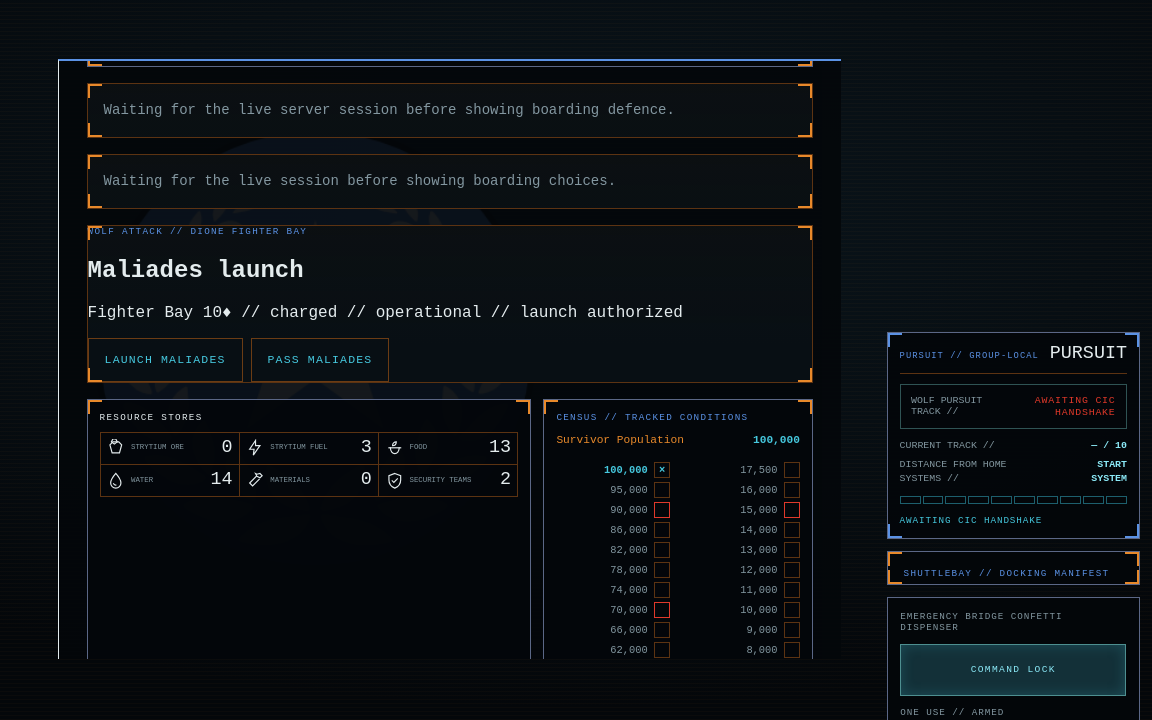
Test: shows the Dione Engineer live Maliades gate and launches against its exact attack revision
(page scrolled)
What coordinates should you click on to do the following:
click the button "Launch Maliades"
I would click on:
 (165, 360)
Its box is [88,338,242,382].
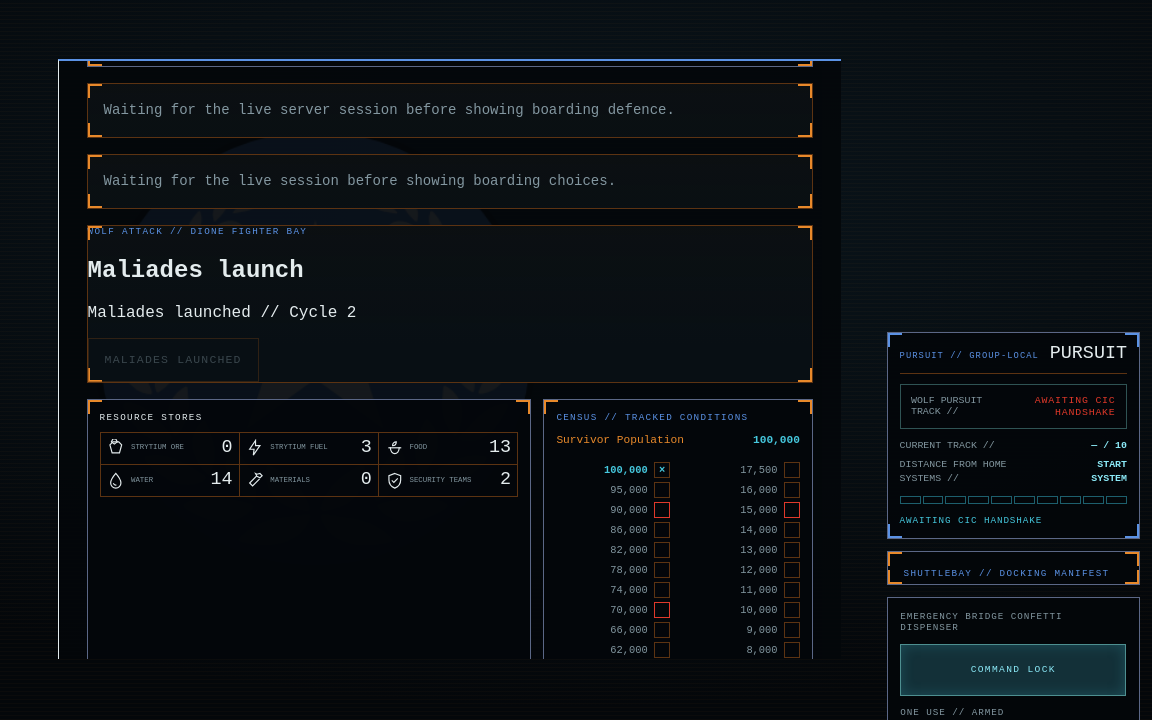
Check: the text "Maliades launched // Cycle 2" is shown, box [88,304,356,322]
Check: the button "Maliades launched" is disabled, box [88,338,259,382]
